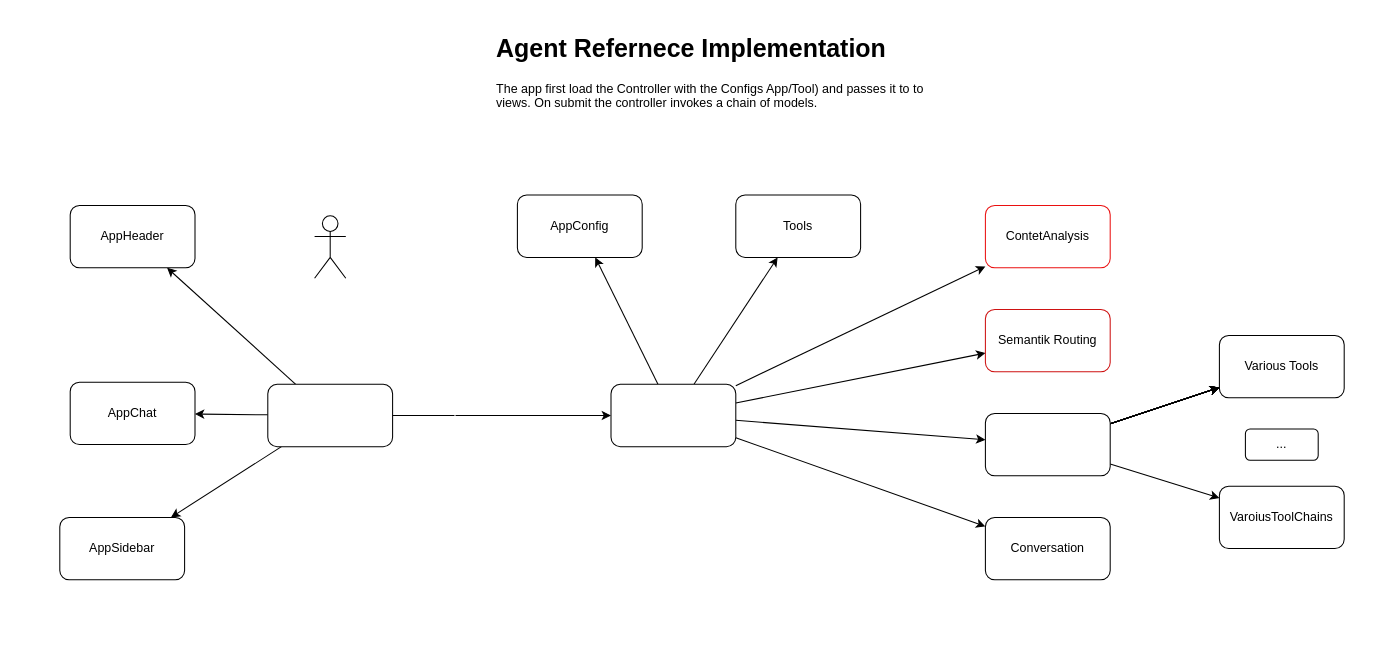
This 1399x671 diagram has some shape labels left out. Each missing label, with the centre of its shape:
Actor: point (330, 246)
App.py: point (330, 415)
Controller: point (673, 415)
CustomHFAgent: point (1047, 444)
